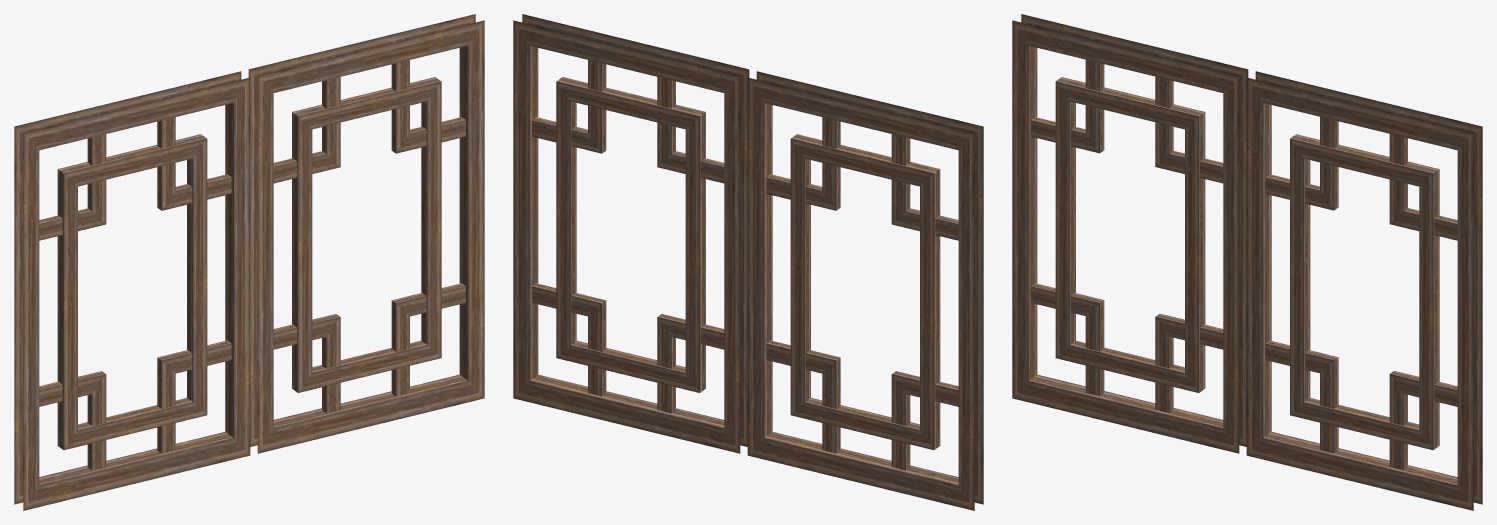
File: chuang.fbx
The picture shows the model from 3 angles, left to right: view 1: azimuth 30°, elevation 25°; view 2: azimuth 150°, elevation 25°; view 3: azimuth 330°, elevation 25°; orthographic projection.
Visible parts, largest first — view 1: 窗003; view 2: 窗003; view 3: 窗003.
Boxes of the visible parts, bbox=[...] form: 窗003: bbox=[14, 14, 484, 510]; 窗003: bbox=[513, 14, 983, 510]; 窗003: bbox=[1012, 14, 1482, 510].
Size of the model in its own units: 59.6 by 46.66 by 1.96.
